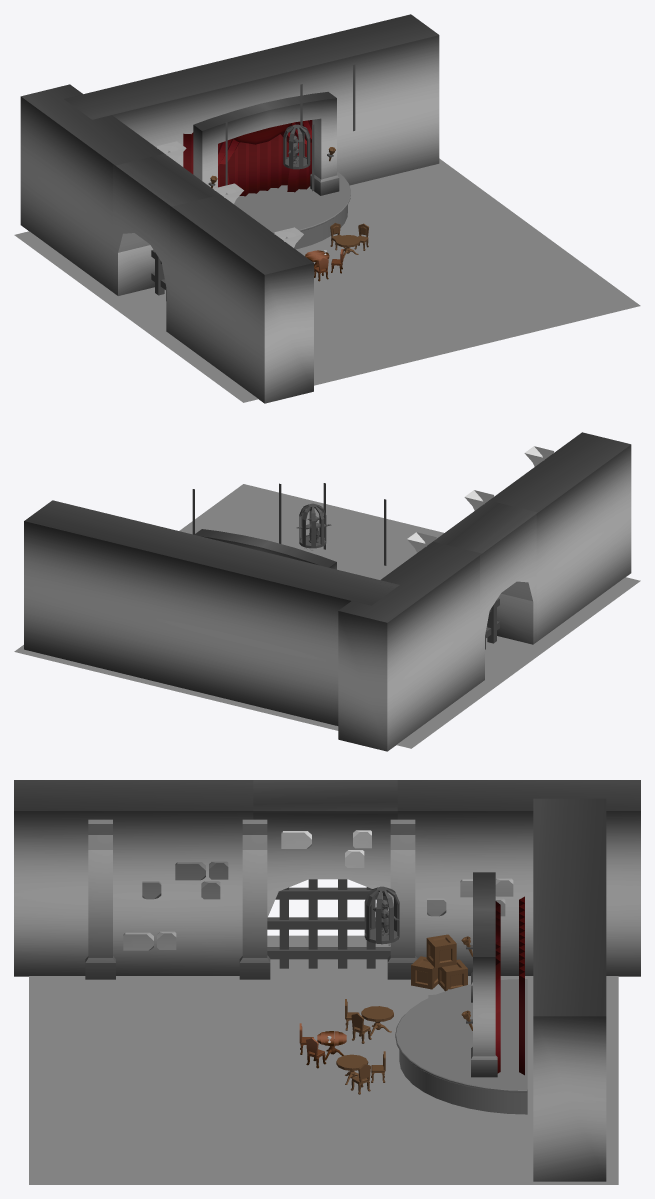
The picture shows the model from 3 angles, top to bottom: view 1: azimuth 30°, elevation 25°; view 2: azimuth 150°, elevation 25°; view 3: azimuth 270°, elevation 25°; orthographic projection. The views are drawn at different scales.
Parts seen in each view (by area): view 1: Plane, Cube.010, Cube.014, Cube.011, Cube.015, Cube, Plane.005, Stage_geo.001, Cylinder.002; view 2: Cube.010, Cube.011, Cube.014, Plane, Cube.015, Cube, Cylinder.002; view 3: Plane, Cube.014, Cube.010, Cube.011, Cube.015, Stage_geo.001, Cube.021, Cube.041, Cube, Cube.043, Cube.017, Cube.016 (+5 smaller).
Part boxes in pixels (left/top/right/bottom): Plane: left=14, top=158, right=640, bottom=402; Cube.010: left=64, top=14, right=439, bottom=185; Cube.014: left=170, top=194, right=313, bottom=403; Cube.011: left=20, top=84, right=163, bottom=291; Cube.015: left=113, top=153, right=220, bottom=333; Cube: left=193, top=92, right=339, bottom=195; Plane.005: left=183, top=120, right=312, bottom=196; Stage_geo.001: left=234, top=171, right=350, bottom=249; Cylinder.002: left=283, top=124, right=310, bottom=169; Cube.010: left=24, top=500, right=399, bottom=725; Cube.011: left=338, top=541, right=481, bottom=751; Cube.014: left=489, top=432, right=631, bottom=641; Plane: left=14, top=484, right=640, bottom=748; Cube.015: left=433, top=500, right=537, bottom=683; Cube: left=194, top=529, right=336, bottom=569; Cylinder.002: left=299, top=503, right=326, bottom=548; Plane: left=29, top=935, right=618, bottom=1184; Cube.014: left=14, top=780, right=253, bottom=976; Cube.010: left=533, top=798, right=606, bottom=1181; Cube.011: left=397, top=780, right=640, bottom=976; Cube.015: left=253, top=780, right=397, bottom=917; Stage_geo.001: left=395, top=979, right=527, bottom=1114; Cube.021: left=267, top=879, right=390, bottom=968; Cube.041: left=123, top=830, right=513, bottom=950; Cube: left=471, top=872, right=497, bottom=1077; Cube.043: left=239, top=819, right=270, bottom=979; Cube.017: left=85, top=819, right=115, bottom=979; Cube.016: left=387, top=819, right=417, bottom=979.
Size of the model in its own units: 2076 by 863 by 2207.
5 materials, 1 textured.
